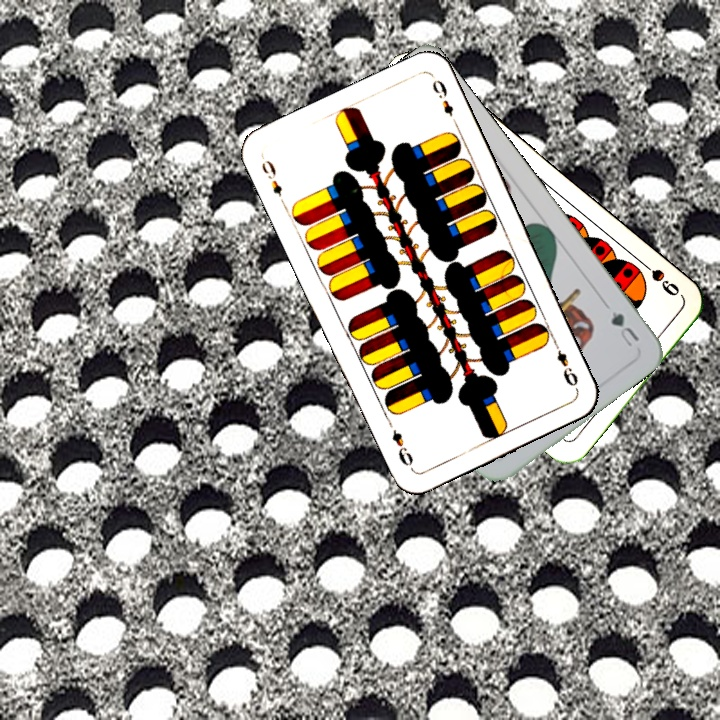E9: (549, 337, 581, 393), (257, 156, 289, 209)
GU: (606, 307, 642, 350)
S9: (635, 256, 683, 299)
